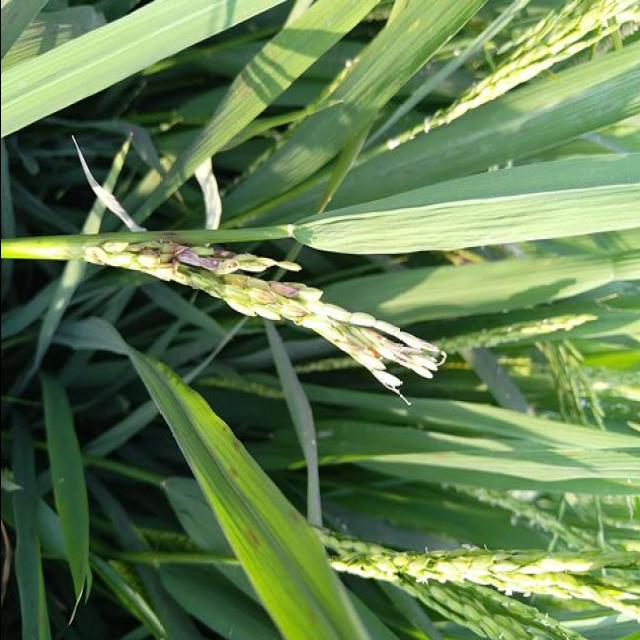Panicle Blight: (331, 336, 370, 365), (175, 250, 221, 271), (140, 262, 177, 282), (134, 247, 161, 269), (267, 282, 302, 298), (244, 288, 275, 306), (160, 242, 190, 259), (282, 300, 306, 320), (219, 259, 239, 275), (367, 329, 384, 344), (214, 250, 235, 261)
